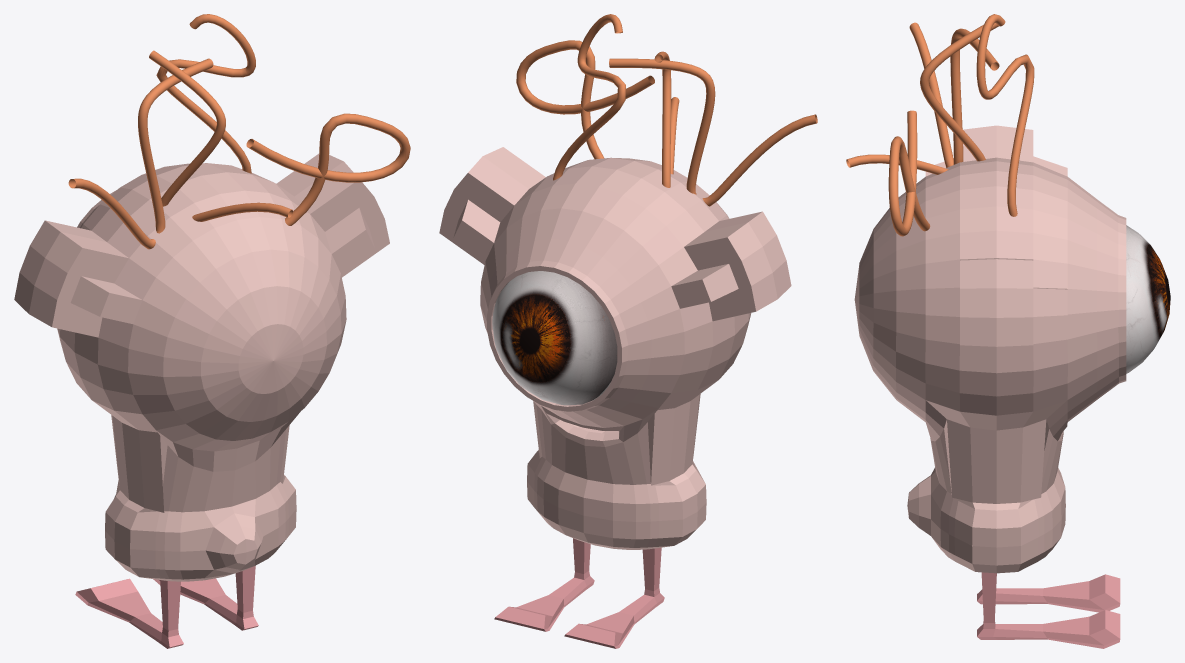
Rendered from coral_monster.glb.
3 views of the same model, side by side, from view 1: azimuth 30°, elevation 25°; view 2: azimuth 150°, elevation 25°; view 3: azimuth 270°, elevation 25° (orthographic). The views are drawn at different scales.
Visible parts, largest first — view 1: Cube.006; view 2: Cube.006; view 3: Cube.006.
Part boxes in pixels (left/top/right/bottom): Cube.006: left=14, top=14, right=410, bottom=648; Cube.006: left=439, top=14, right=817, bottom=648; Cube.006: left=846, top=14, right=1170, bottom=648.
Bounding box in the file's own units: 2.76 × 4.69 × 2.29.
Materials: 4 (1 with a texture image).
